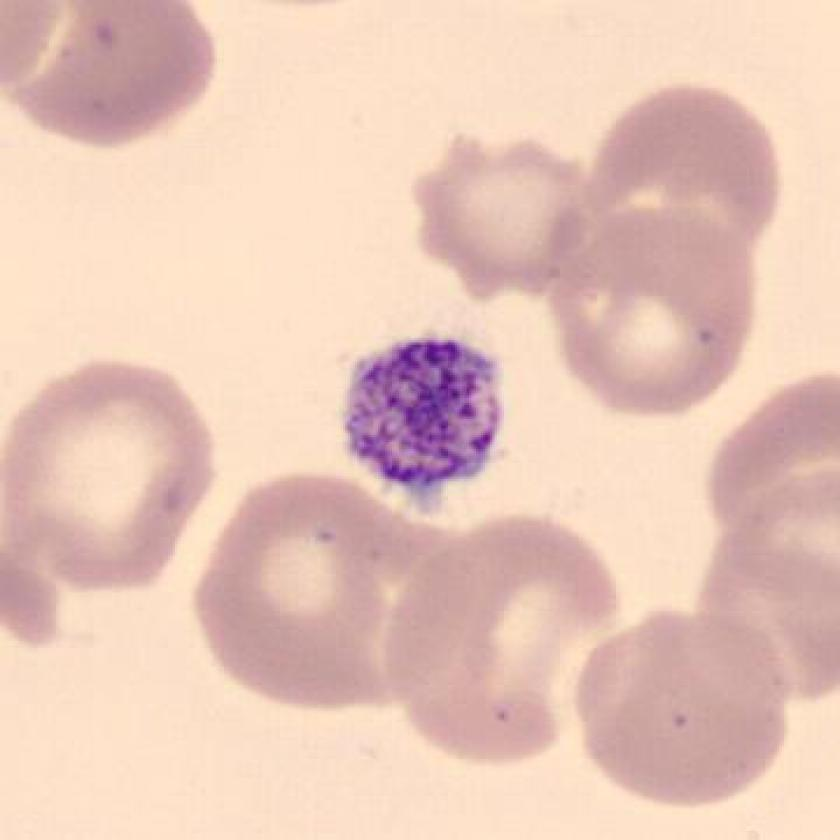platelets: (330, 316, 519, 512)
